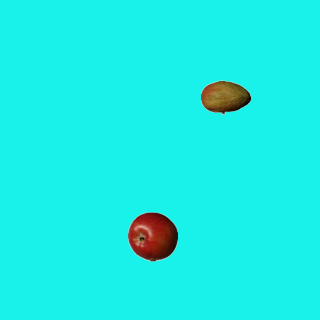Apple Braeburn: (127, 211, 177, 261)
Papaya: (200, 72, 250, 122)
